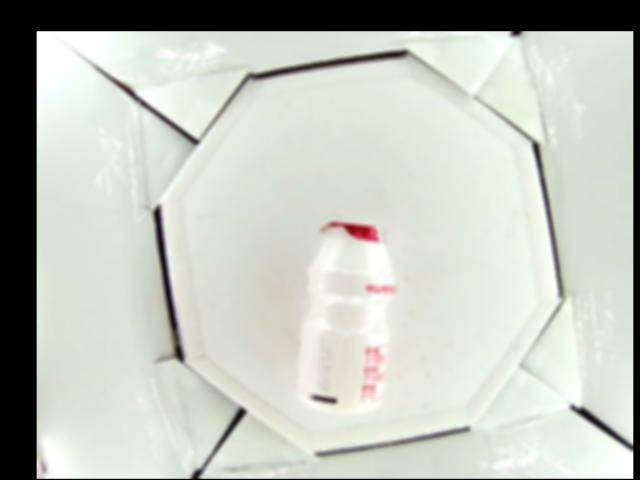Bottle: (293, 222, 399, 412)
